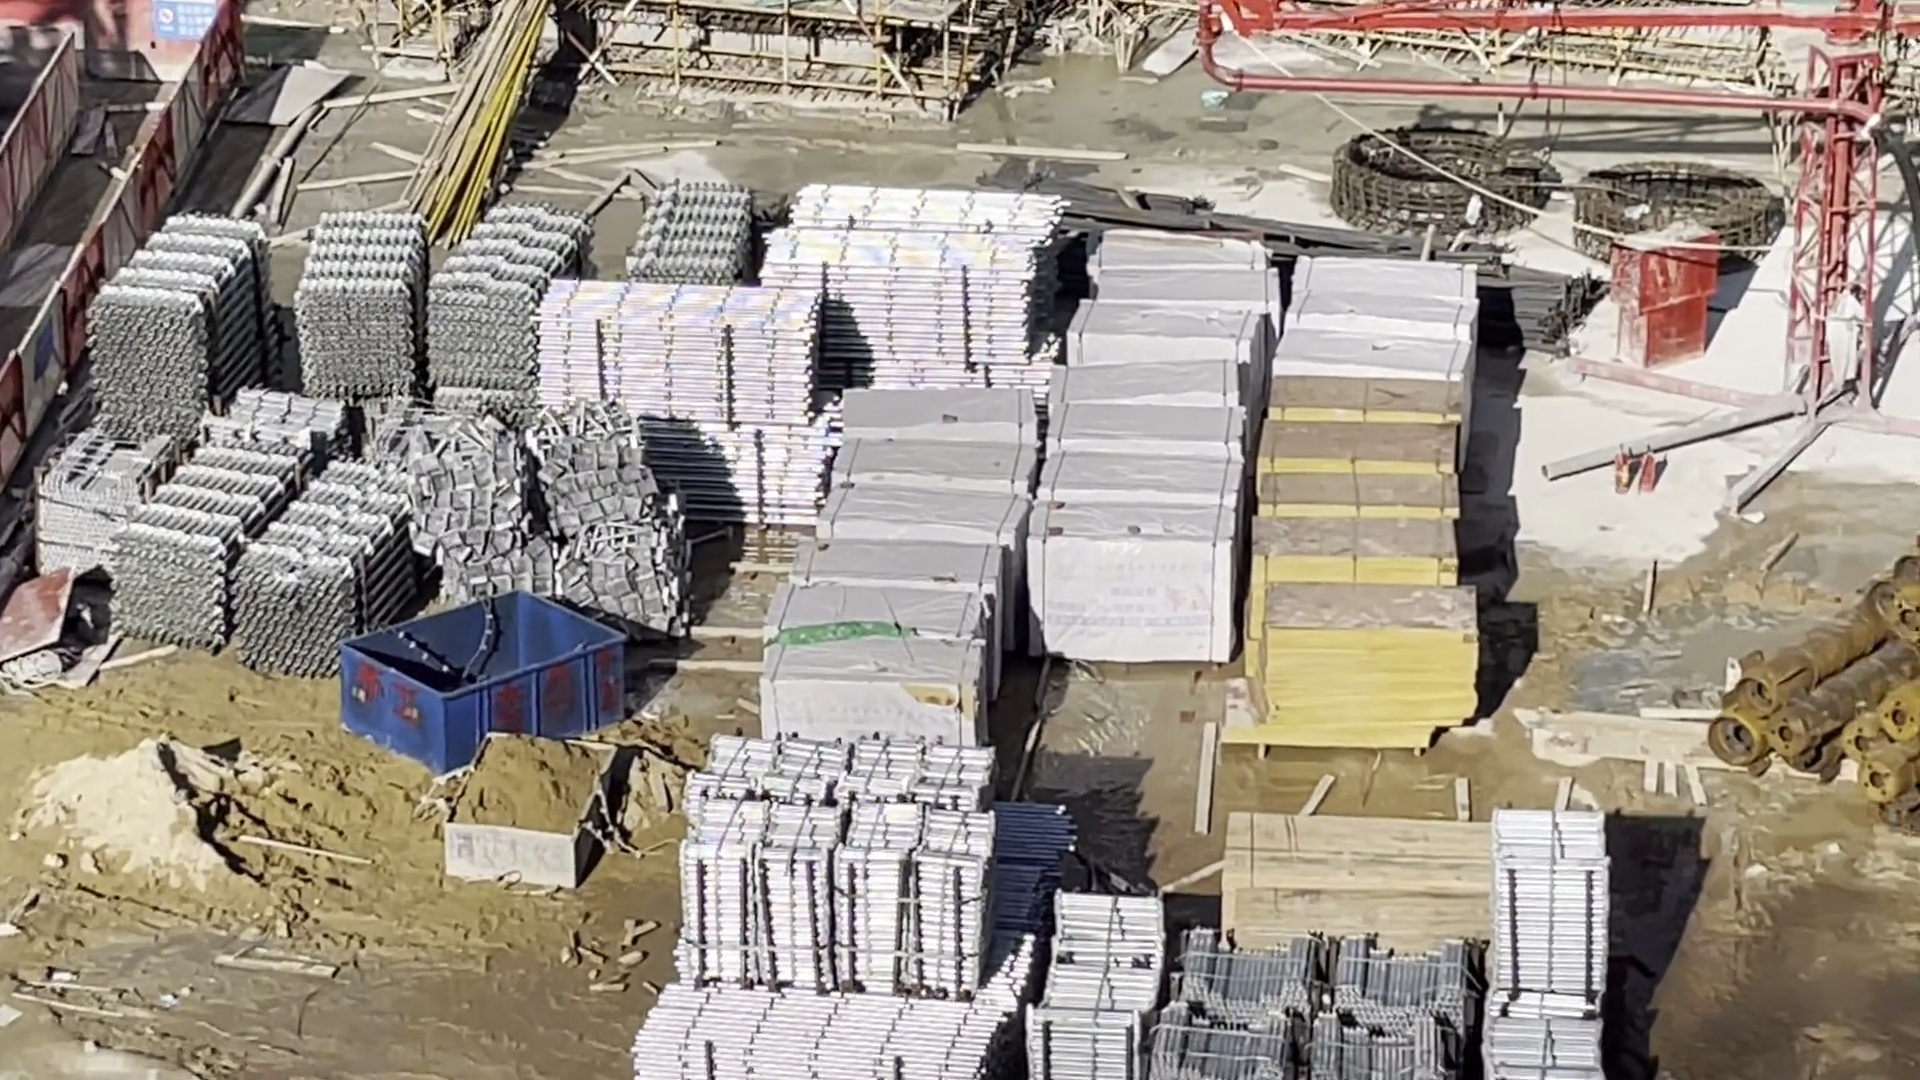board: (1255, 377, 1456, 752), (1221, 807, 1481, 934)
fence: (5, 4, 229, 481)
hopper: (340, 591, 628, 769), (446, 735, 617, 887)
rebar: (1036, 162, 1588, 347)
scaffold: (680, 746, 1000, 996), (538, 281, 832, 512), (116, 454, 415, 665), (764, 187, 1063, 363), (1159, 934, 1482, 1077), (98, 219, 258, 446), (1482, 818, 1609, 1080), (645, 988, 998, 1080), (429, 215, 574, 411), (298, 210, 427, 410), (1039, 895, 1164, 1077), (640, 183, 744, 295)
slogan: (150, 3, 220, 40)
